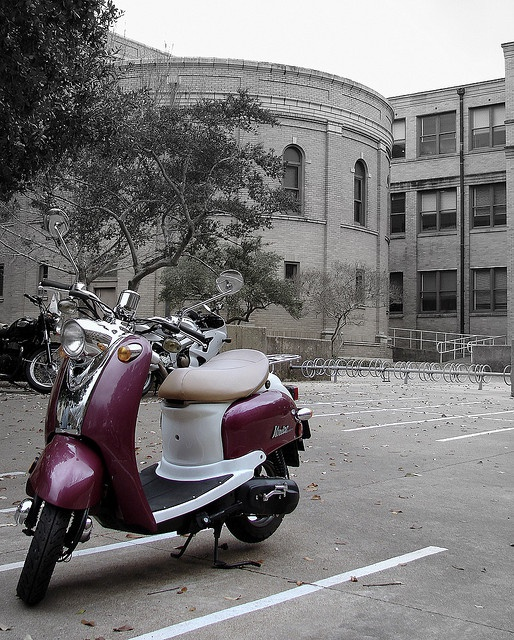non-vehicle: (12, 210, 310, 610), (135, 301, 232, 398), (0, 287, 65, 391)
